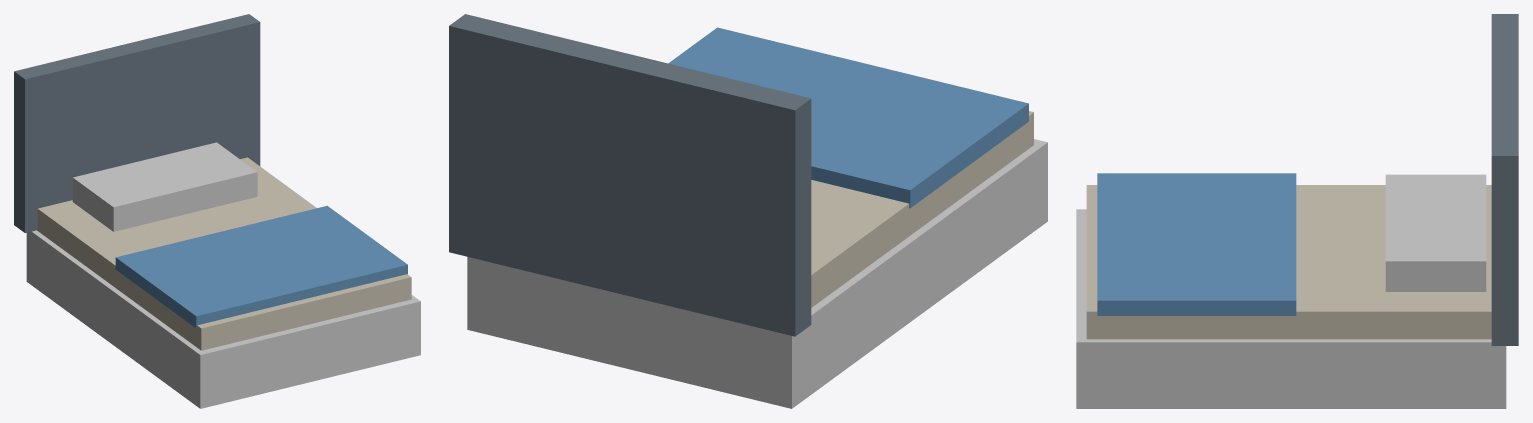
Rendered from cama_departamento.glb.
The picture shows the model from 3 angles, left to right: view 1: azimuth 30°, elevation 25°; view 2: azimuth 150°, elevation 25°; view 3: azimuth 270°, elevation 25°; orthographic projection. The views are drawn at different scales.
Visible parts, largest first — view 1: cama_departamento_03, cama_departamento_00, cama_departamento_02, cama_departamento_01, cama_departamento_04; view 2: cama_departamento_03, cama_departamento_00, cama_departamento_02, cama_departamento_01; view 3: cama_departamento_00, cama_departamento_02, cama_departamento_01, cama_departamento_04, cama_departamento_03.
Part boxes in pixels (x1,y1,x2,y2): cama_departamento_03: (14,14,260,232); cama_departamento_00: (26,230,420,408); cama_departamento_02: (115,205,407,328); cama_departamento_01: (37,157,411,350); cama_departamento_04: (72,142,257,231); cama_departamento_03: (449,14,811,336); cama_departamento_00: (467,139,1047,408); cama_departamento_02: (668,27,1028,208); cama_departamento_01: (811,111,1033,307); cama_departamento_00: (1076,209,1506,408); cama_departamento_02: (1097,173,1296,315); cama_departamento_01: (1086,185,1491,339); cama_departamento_04: (1385,174,1486,291); cama_departamento_03: (1491,14,1518,345).
Size of the model in its own units: 1.6 by 1.35 by 2.11.
